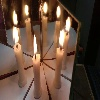fire: (33, 33, 39, 56)
